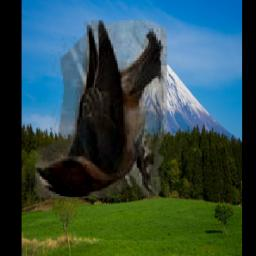Swallow: (36, 20, 168, 198)
